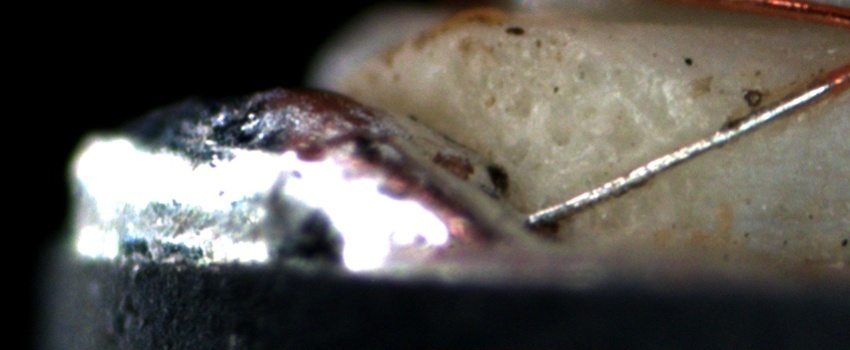TS: (523, 80, 834, 228)
